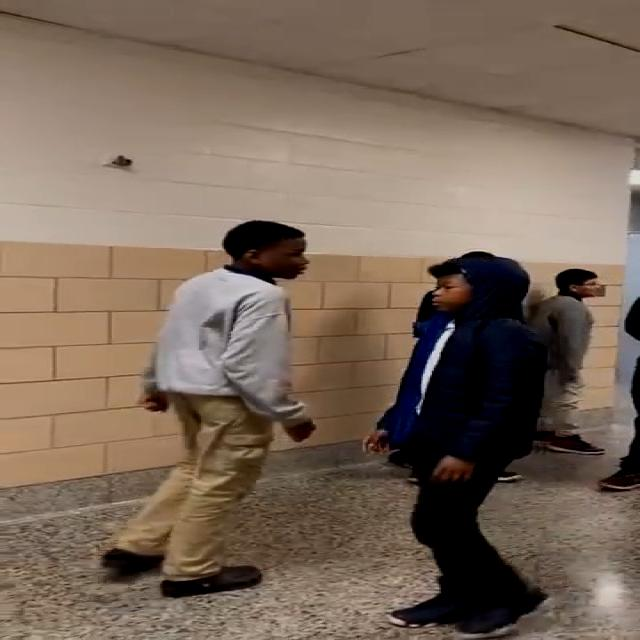fight: (140, 219, 553, 631)
